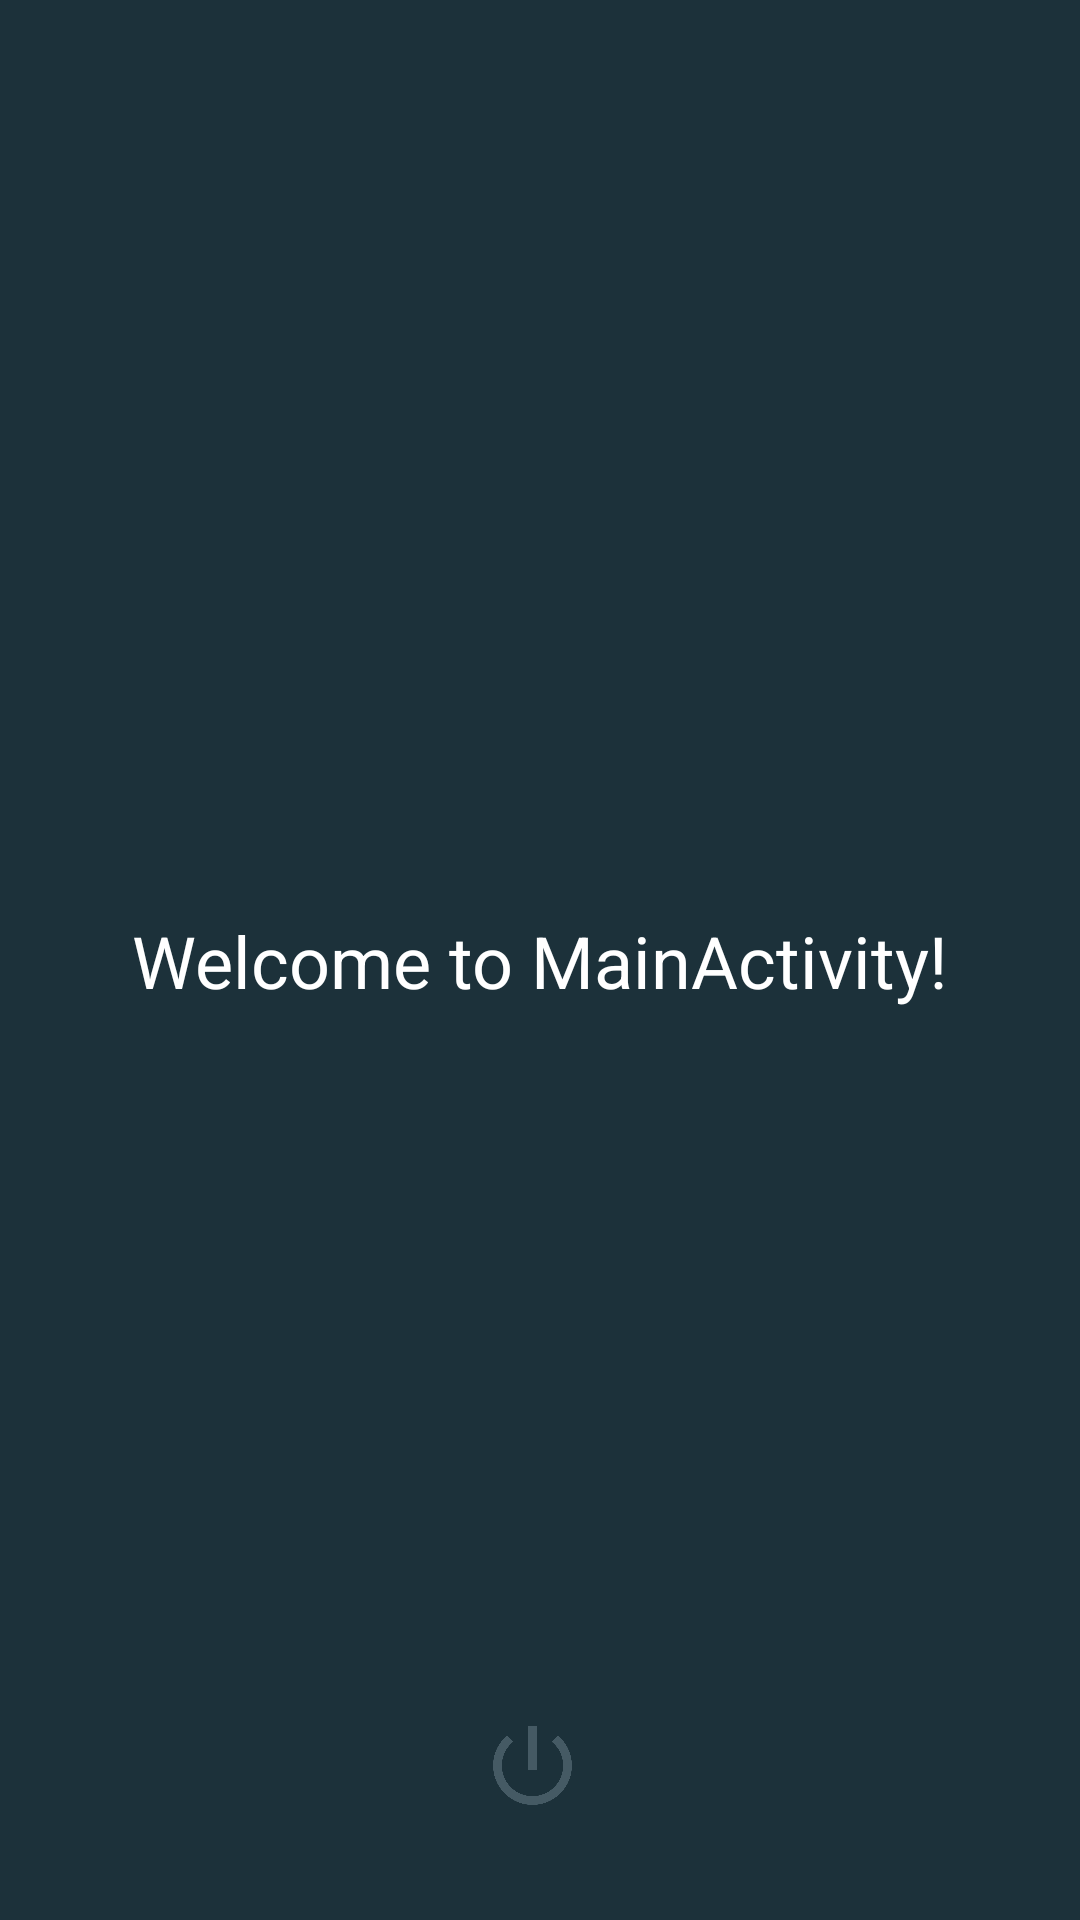

Point at icon controls on the screen. Image size 1080x1920, points as point (x, y).
power settings: point (532, 1765)
